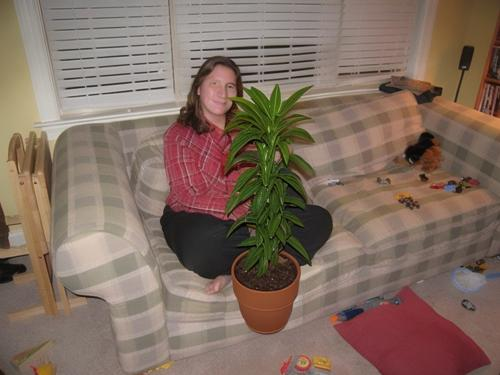person: (160, 55, 334, 294)
person/foot: (204, 275, 254, 294)
person/hand: (249, 201, 297, 224), (285, 190, 304, 224)
person/head: (196, 56, 240, 115)
pottedplant: (224, 82, 314, 335)
sofa: (52, 91, 500, 373)
